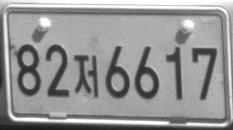1: (164, 45, 190, 99)
2: (44, 43, 69, 97)
6: (133, 46, 160, 100), (105, 45, 130, 99)
7: (191, 46, 217, 101)
8: (16, 43, 41, 96)
저: (73, 53, 98, 98)
